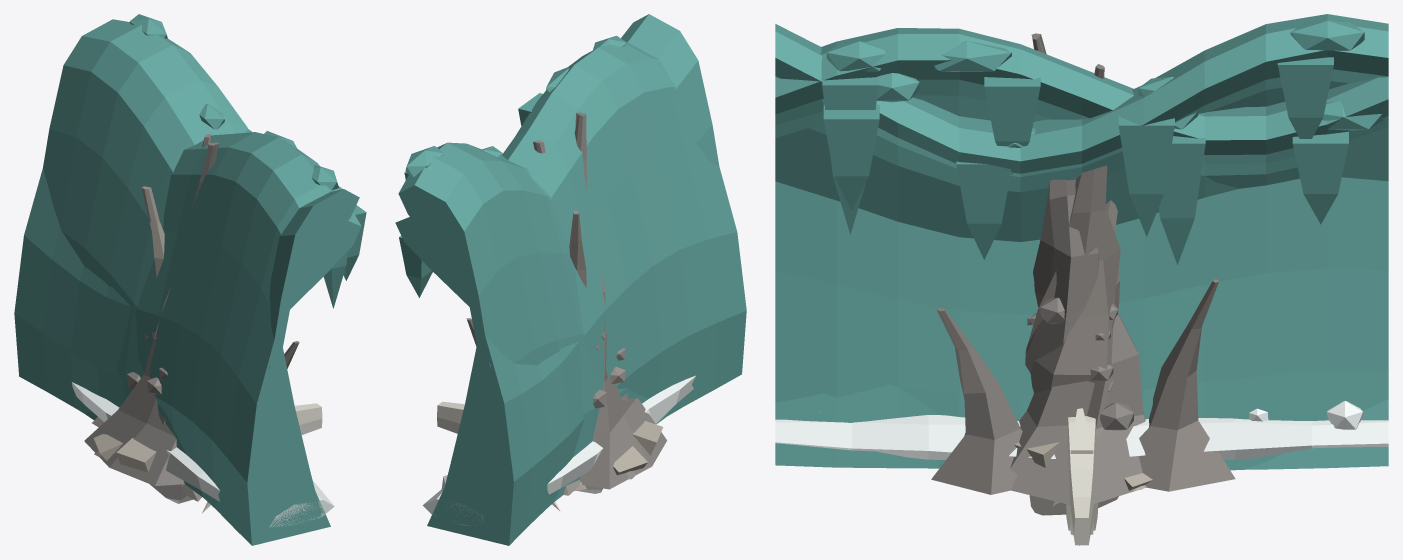
The model's file is brinejaw_fx.glb.
3 views of the same model, side by side, from view 1: azimuth 30°, elevation 25°; view 2: azimuth 150°, elevation 25°; view 3: azimuth 270°, elevation 25° (orthographic). The views are drawn at different scales.
Visible parts, largest first — view 1: BrinejawFx_Crest1, BrinejawFx_Crest2, BrinejawFx_Spike3, BrinejawFx_Foam, BrinejawFx_SpoutBase, BrinejawFx_Spike2, BrinejawFx_Spine, BrinejawFx_Rock1, BrinejawFx_Spike1; view 2: BrinejawFx_Crest1, BrinejawFx_Crest2, BrinejawFx_Spike3, BrinejawFx_Foam, BrinejawFx_SpoutBase, BrinejawFx_Spike2, BrinejawFx_Spine, BrinejawFx_Spike1; view 3: BrinejawFx_Crest2, BrinejawFx_Crest1, BrinejawFx_Spike3, BrinejawFx_Spike1, BrinejawFx_Foam, BrinejawFx_Spine, BrinejawFx_SpoutBase.
Part boxes in pixels (box(x1,y1,x2,y2)): BrinejawFx_Crest1: box(14, 131, 361, 545); BrinejawFx_Crest2: box(43, 14, 366, 544); BrinejawFx_Spike3: box(84, 142, 299, 485); BrinejawFx_Foam: box(71, 382, 334, 527); BrinejawFx_SpoutBase: box(93, 434, 156, 472); BrinejawFx_Spike2: box(92, 186, 164, 427); BrinejawFx_Spine: box(202, 403, 322, 513); BrinejawFx_Rock1: box(149, 484, 193, 503); BrinejawFx_Spike1: box(94, 134, 211, 457); BrinejawFx_Crest1: box(395, 35, 746, 545); BrinejawFx_Crest2: box(398, 14, 719, 543); BrinejawFx_Spike3: box(574, 112, 666, 489); BrinejawFx_Foam: box(422, 375, 695, 525); BrinejawFx_SpoutBase: box(579, 421, 663, 484); BrinejawFx_Spike2: box(563, 210, 623, 495); BrinejawFx_Spine: box(437, 401, 560, 511); BrinejawFx_Spike1: box(466, 140, 635, 479); BrinejawFx_Crest2: box(775, 14, 1388, 470); BrinejawFx_Crest1: box(775, 28, 1388, 469); BrinejawFx_Spike3: box(931, 33, 1146, 504); BrinejawFx_Spike1: box(1028, 64, 1235, 491); BrinejawFx_Foam: box(775, 401, 1388, 460); BrinejawFx_Spine: box(1066, 408, 1098, 545); BrinejawFx_SpoutBase: box(1014, 442, 1152, 490).
Bounding box in the file's own units: 6.36 × 11.9 × 12.
